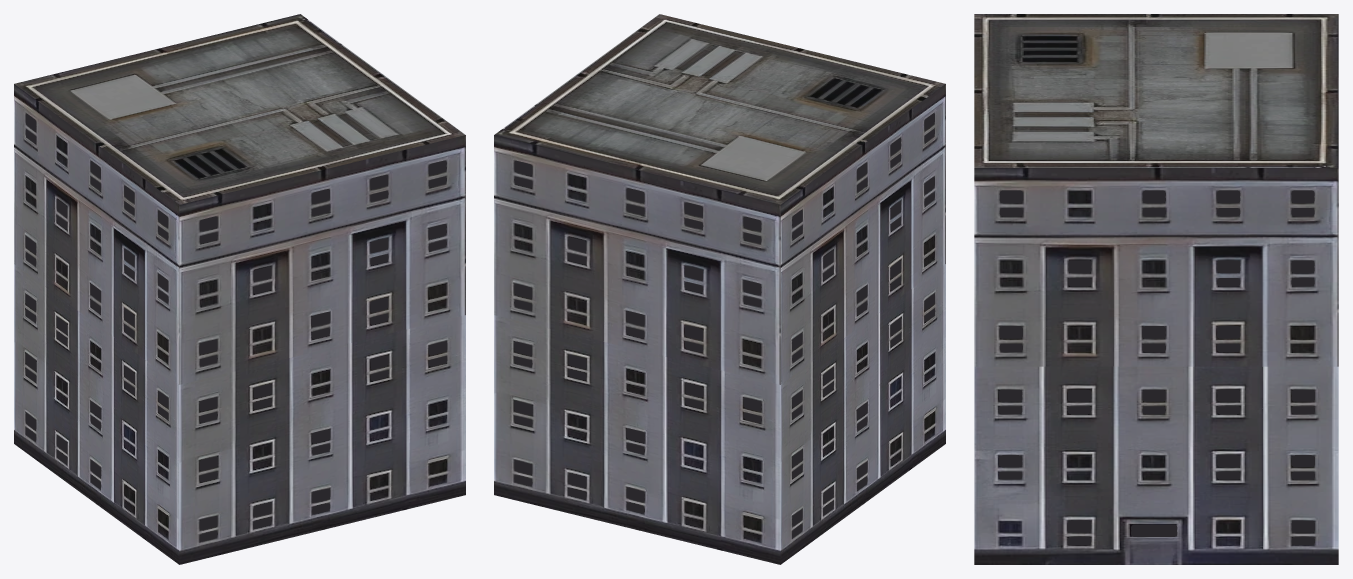
Rendered from city6storyc_hdtex.glb.
The picture shows the model from 3 angles, left to right: view 1: azimuth 30°, elevation 25°; view 2: azimuth 150°, elevation 25°; view 3: azimuth 270°, elevation 25°; orthographic projection. The views are drawn at different scales.
Parts seen in each view (by area): view 1: CityBlock8Story_A01, LitWin_City6Story; view 2: CityBlock8Story_A01, LitWin_City6Story; view 3: CityBlock8Story_A01, LitWin_City6Story.
Boxes of the visible parts, <box> form: CityBlock8Story_A01: <box>14,14,465,564</box>; LitWin_City6Story: <box>25,113,447,541</box>; CityBlock8Story_A01: <box>494,14,945,564</box>; LitWin_City6Story: <box>514,113,935,537</box>; CityBlock8Story_A01: <box>974,14,1338,564</box>; LitWin_City6Story: <box>999,190,1314,544</box>.
Bounding box in the file's own units: 17.76 × 21.34 × 17.76.
Materials: 1 (1 with a texture image).
